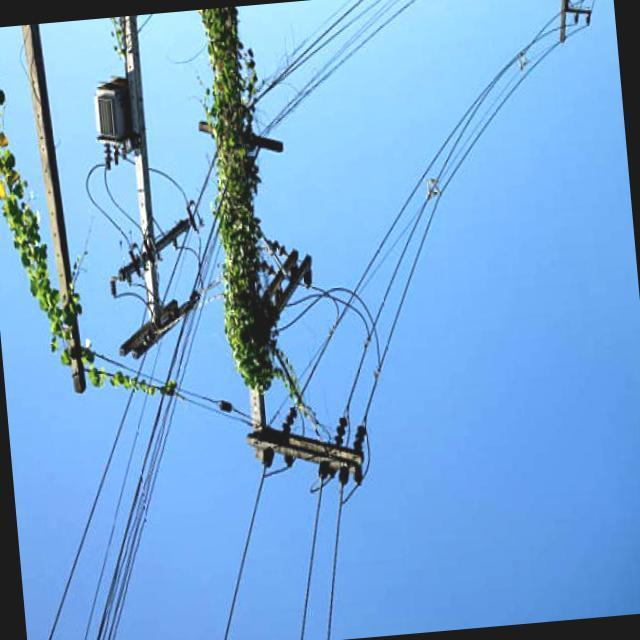critical vegetation: (191, 14, 312, 476), (29, 260, 122, 406)
